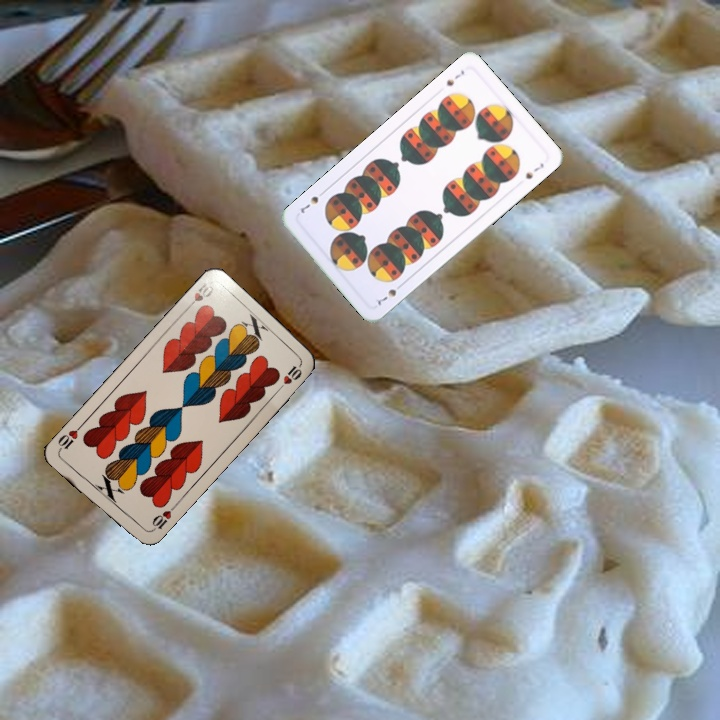H10: (182, 276, 217, 312), (146, 502, 178, 535)
S7: (371, 279, 406, 308), (442, 66, 467, 89)
